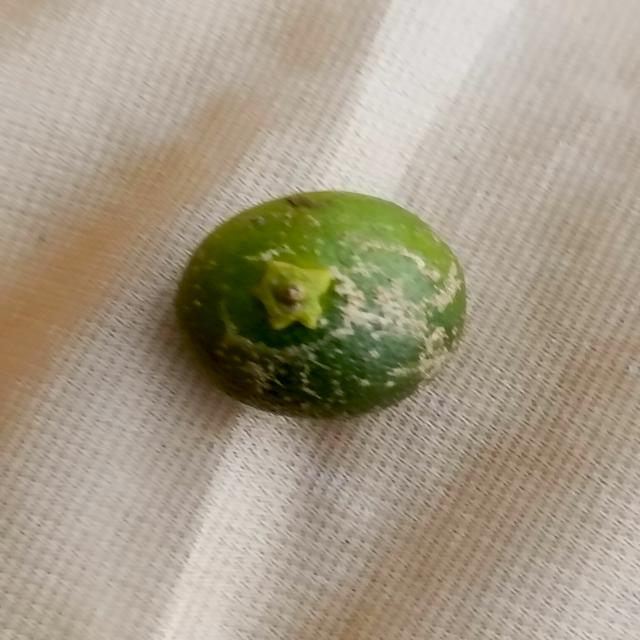scab: (170, 189, 468, 414)
